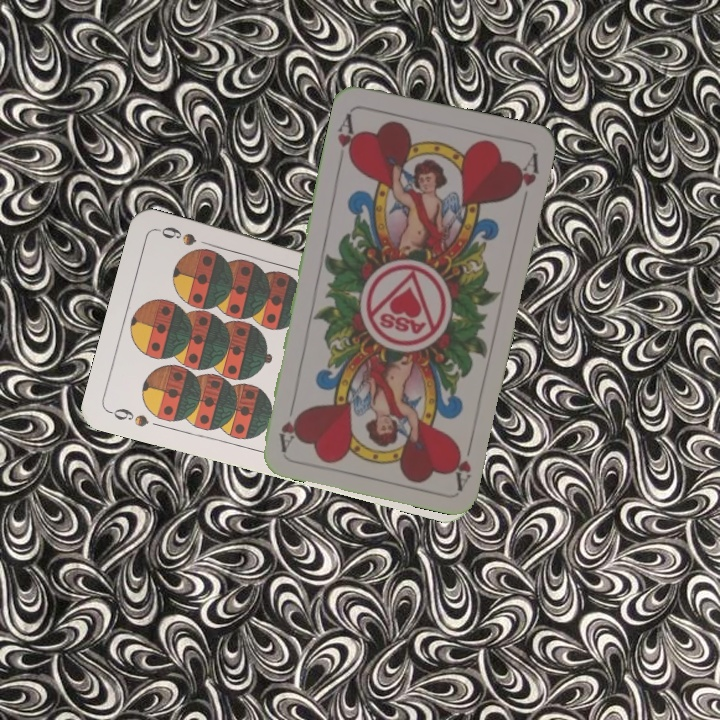HA: (448, 432, 476, 490), (333, 109, 361, 166)
S9: (105, 404, 151, 430)
